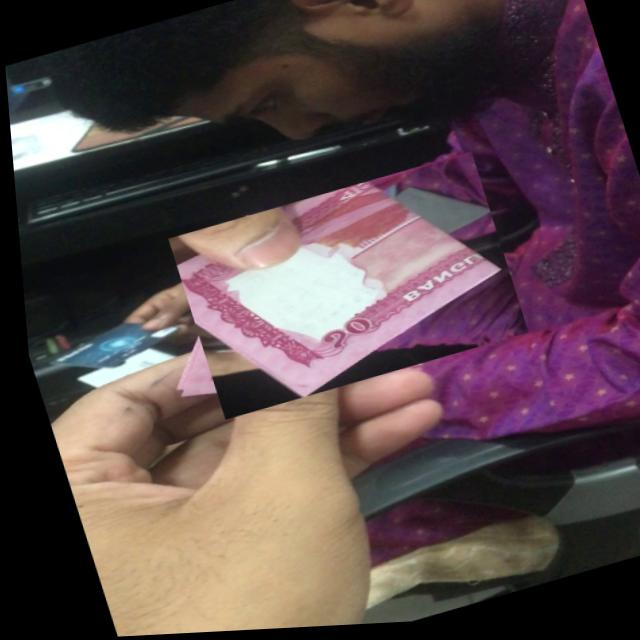Taka: (159, 154, 526, 422)
